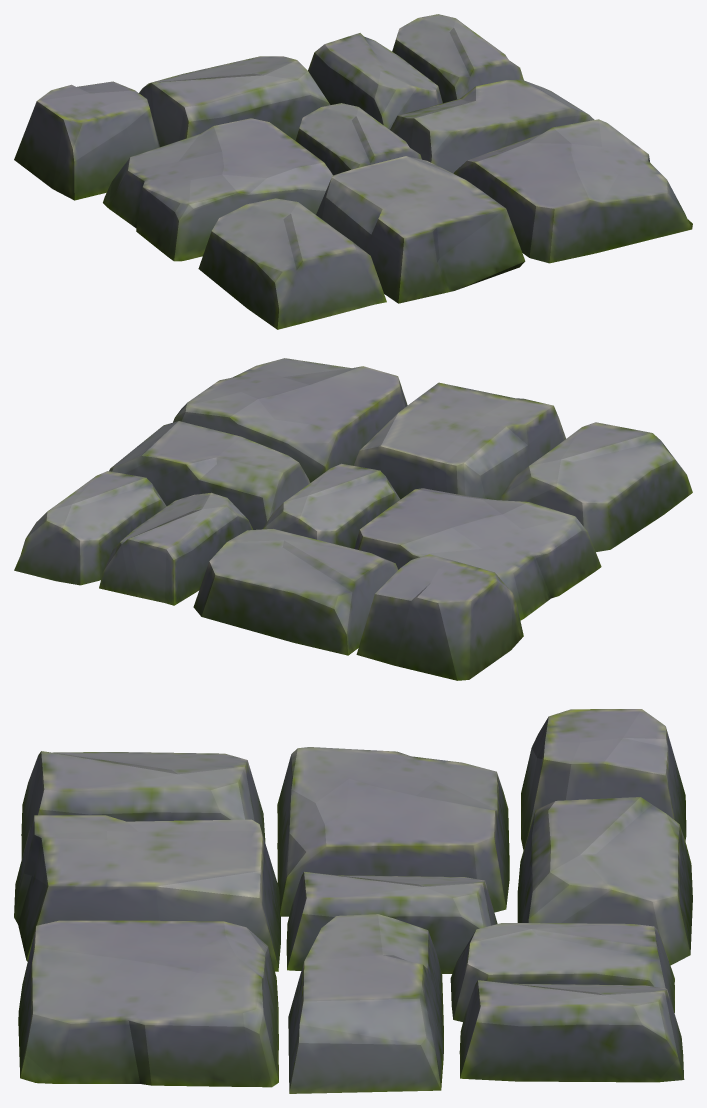
Rendered from RockPath_Square_Small_1.glb.
The picture shows the model from 3 angles, top to bottom: view 1: azimuth 30°, elevation 25°; view 2: azimuth 150°, elevation 25°; view 3: azimuth 270°, elevation 25°; orthographic projection. The views are drawn at different scales.
Parts seen in each view (by area): view 1: RockPath_Square_Small_1; view 2: RockPath_Square_Small_1; view 3: RockPath_Square_Small_1.
Part boxes in pixels (<box>): RockPath_Square_Small_1: <box>14,14,692,329</box>; RockPath_Square_Small_1: <box>14,358,692,680</box>; RockPath_Square_Small_1: <box>14,709,692,1093</box>.
Bounding box in the file's own units: 1.02 × 0.1499 × 0.9739.
Materials: 1 (1 with a texture image).
